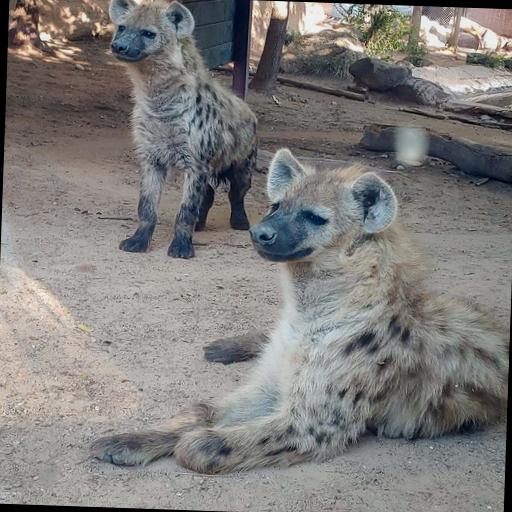hyenas: (52, 0, 498, 502)
